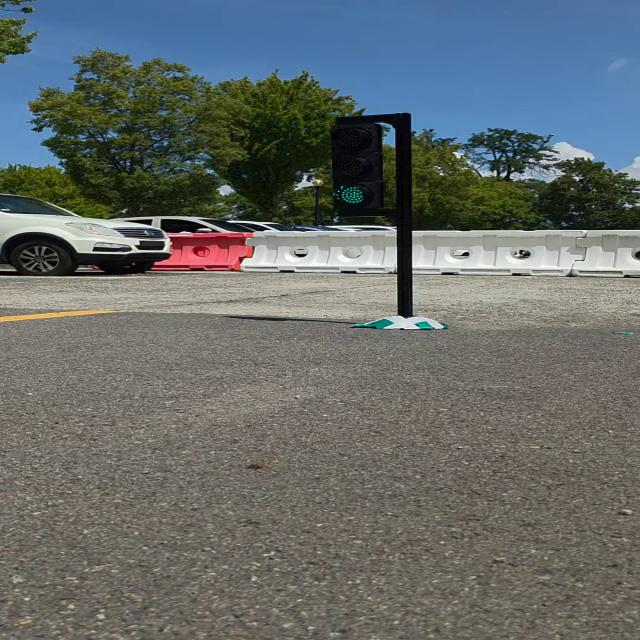green: (329, 118, 384, 214)
